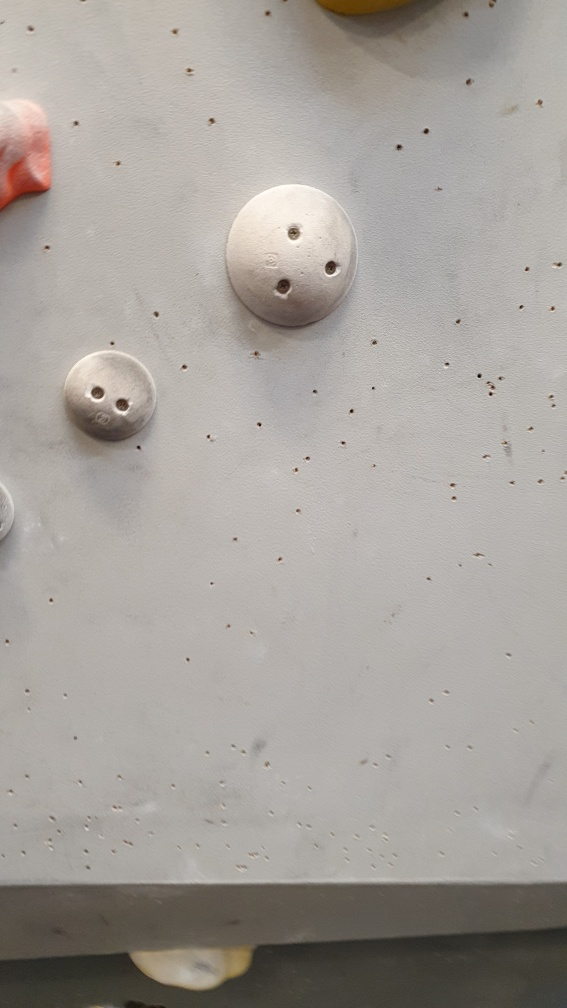Sloper: (226, 179, 362, 332), (62, 349, 158, 448)
